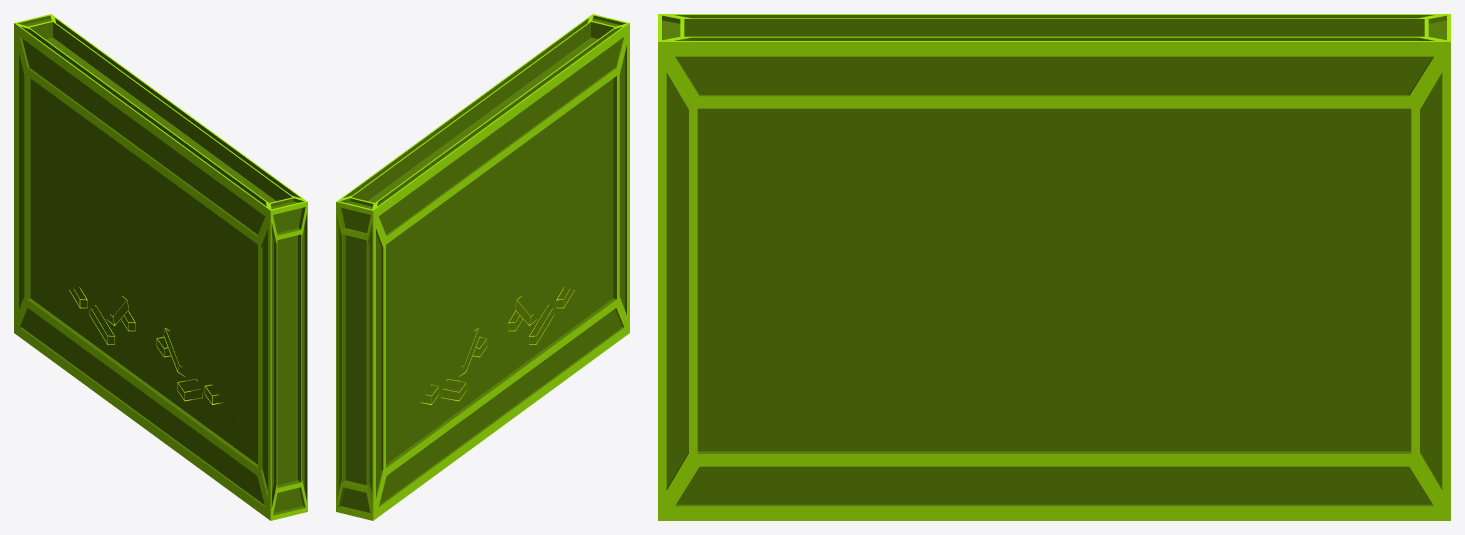
File: Wall.fbx
The picture shows the model from 3 angles, left to right: view 1: azimuth 30°, elevation 25°; view 2: azimuth 150°, elevation 25°; view 3: azimuth 270°, elevation 25°; orthographic projection. The views are drawn at different scales.
Visible parts, largest first — view 1: JengaWall; view 2: JengaWall; view 3: JengaWall.
Part boxes in pixels (box(x1,y1,x2,y2)): JengaWall: box(14, 14, 307, 520); JengaWall: box(336, 14, 629, 520); JengaWall: box(658, 14, 1450, 520).
Bounding box in the file's own units: 125 × 1000 × 1500.
